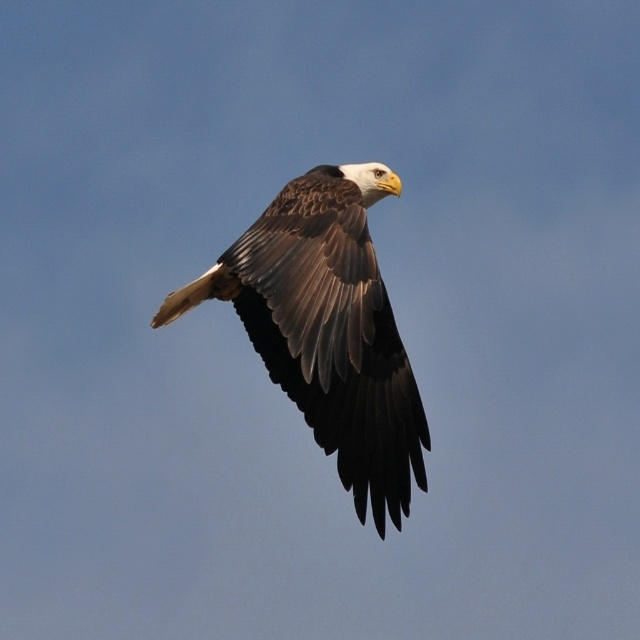Eagle: (146, 158, 434, 545)
